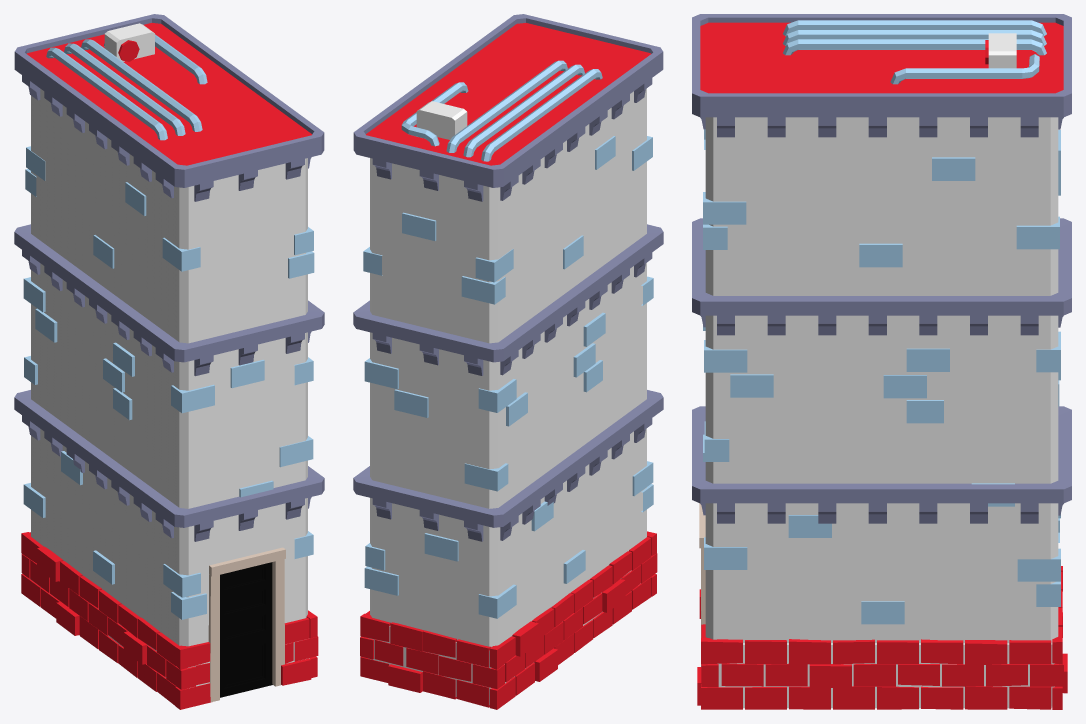
The model's file is building_quaternius_3Story_Slim.glb.
3 renders of one model, left to right at view 1: azimuth 30°, elevation 25°; view 2: azimuth 150°, elevation 25°; view 3: azimuth 270°, elevation 25°, orthographic. The views are drawn at different scales.
Bounding box in the file's own units: 1.12 × 3.99 × 2.15.
1 material, 1 textured.
